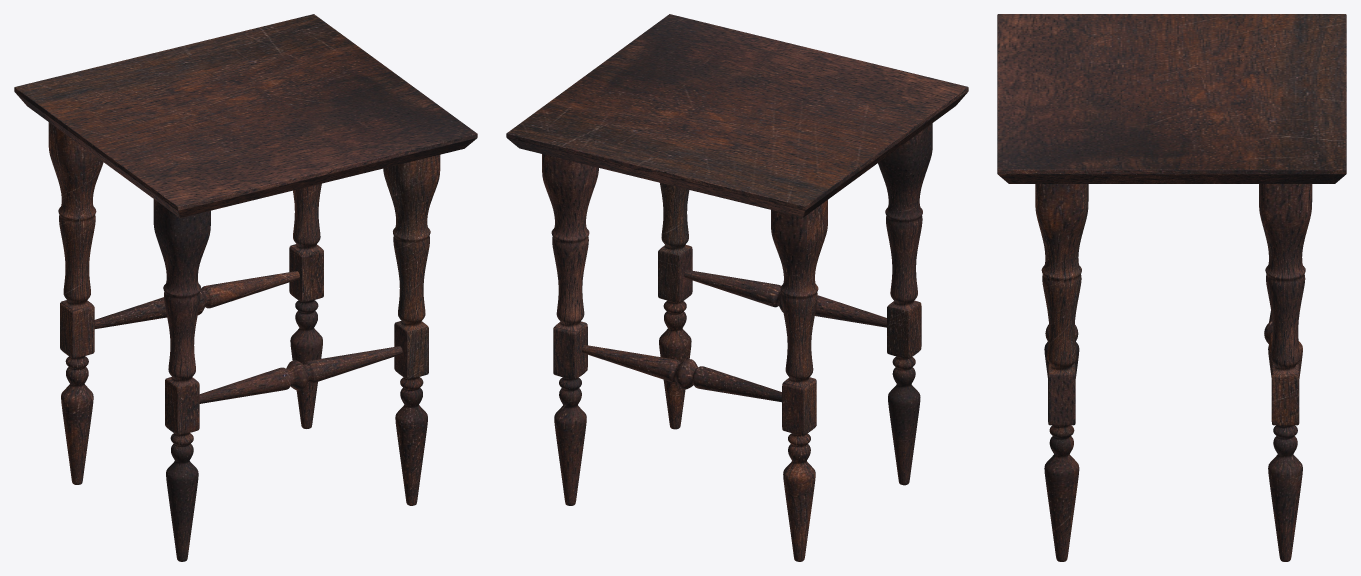
The model's file is bernini.glb.
3 renders of one model, left to right at view 1: azimuth 30°, elevation 25°; view 2: azimuth 150°, elevation 25°; view 3: azimuth 270°, elevation 25°, orthographic. The views are drawn at different scales.
Parts seen in each view (by area): view 1: Cylinder; view 2: Cylinder; view 3: Cylinder.
Part boxes in pixels (x1,y1,x2,y2): Cylinder: [14, 14, 477, 561]; Cylinder: [506, 14, 968, 561]; Cylinder: [997, 14, 1346, 561].
Size of the model in its own units: 0.4871 by 0.5957 by 0.4602.
Materials: 1 (1 with a texture image).
